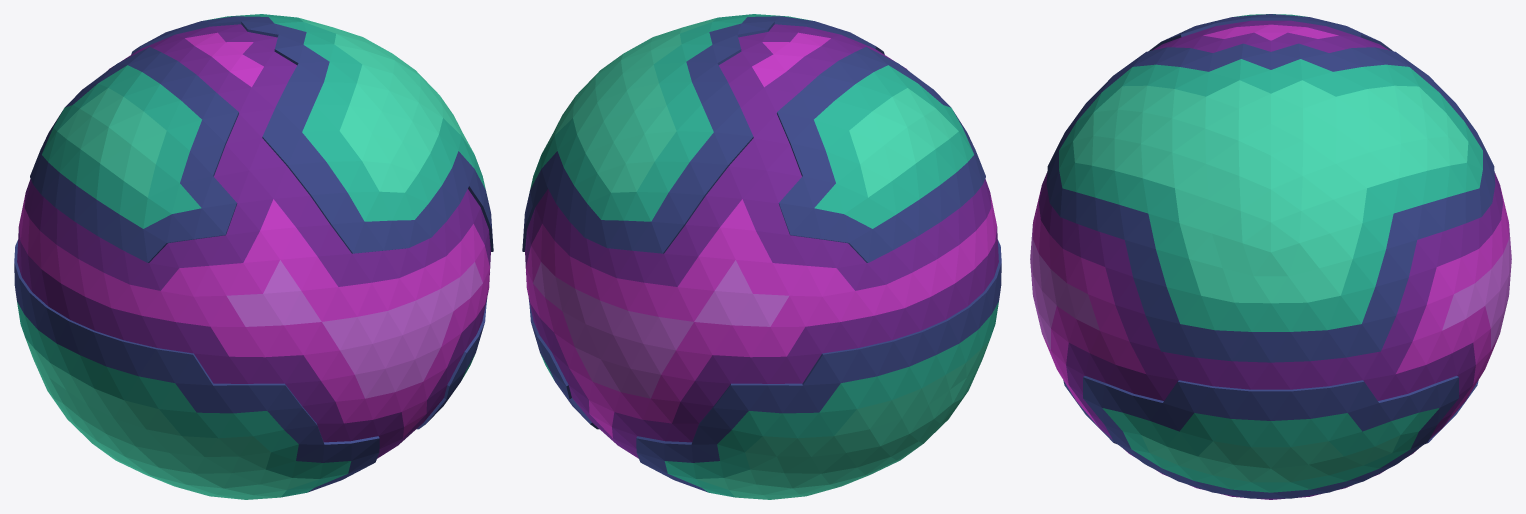
Rendered from Planet.fbx.
3 renders of one model, left to right at view 1: azimuth 30°, elevation 25°; view 2: azimuth 150°, elevation 25°; view 3: azimuth 270°, elevation 25°, orthographic.
Parts seen in each view (by area): view 1: Icosphere; view 2: Icosphere; view 3: Icosphere.
Part boxes in pixels (x1=…): Icosphere: x1=14, y1=14, x2=493, y2=499; Icosphere: x1=522, y1=14, x2=1001, y2=499; Icosphere: x1=1030, y1=14, x2=1511, y2=499.
Bounding box in the file's own units: 10043 × 9975 × 9927.
